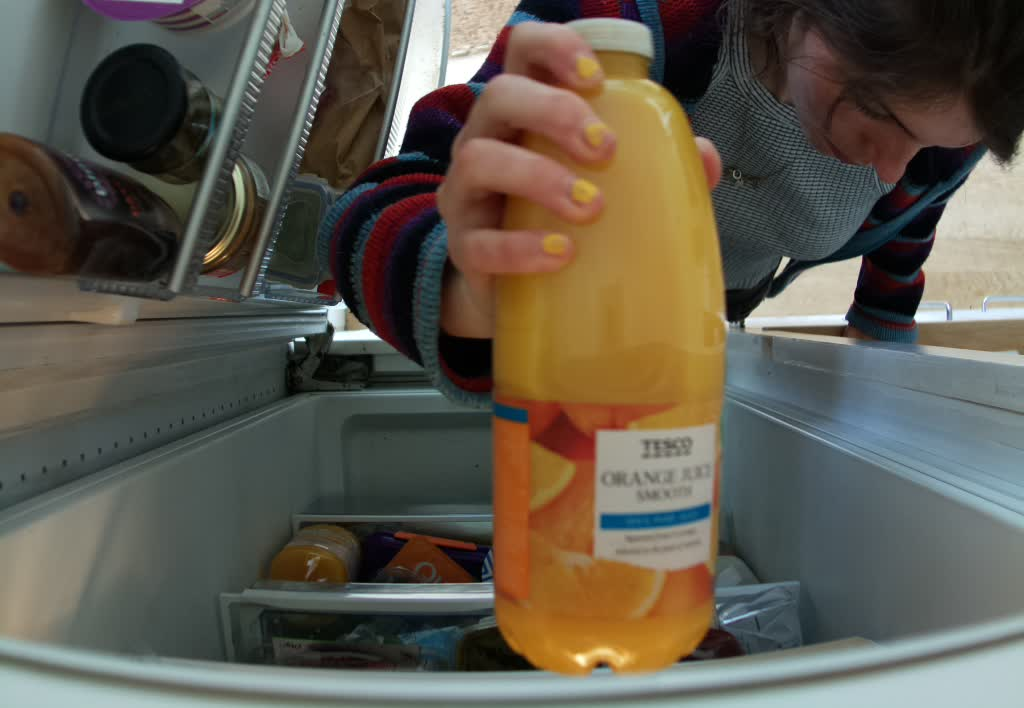juice: (491, 17, 719, 673)
